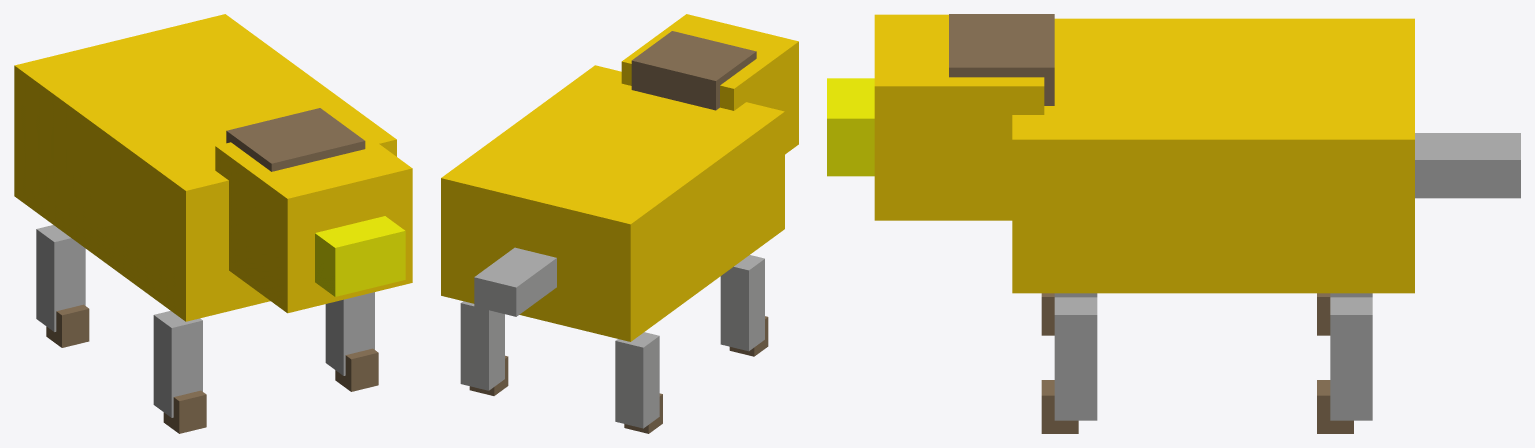
The model's file is SlorimLionB.glb.
3 renders of one model, left to right at view 1: azimuth 30°, elevation 25°; view 2: azimuth 150°, elevation 25°; view 3: azimuth 270°, elevation 25°, orthographic. The views are drawn at different scales.
Parts seen in each view (by area): view 1: SlorimLionBody; view 2: SlorimLionBody; view 3: SlorimLionBody.
Part boxes in pixels (<box>): SlorimLionBody: <box>14,14,412,433</box>; SlorimLionBody: <box>441,14,798,433</box>; SlorimLionBody: <box>827,14,1520,433</box>.
Size of the model in its own units: 0.54 by 0.7 by 1.31.
